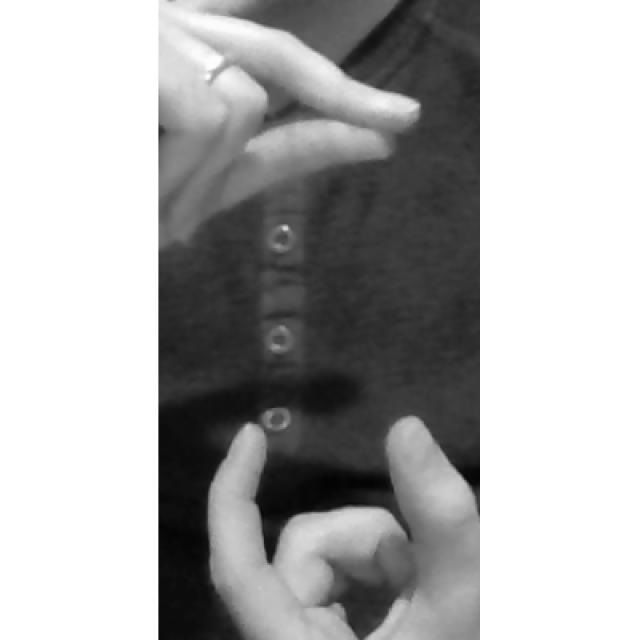U--: (158, 7, 477, 640)
